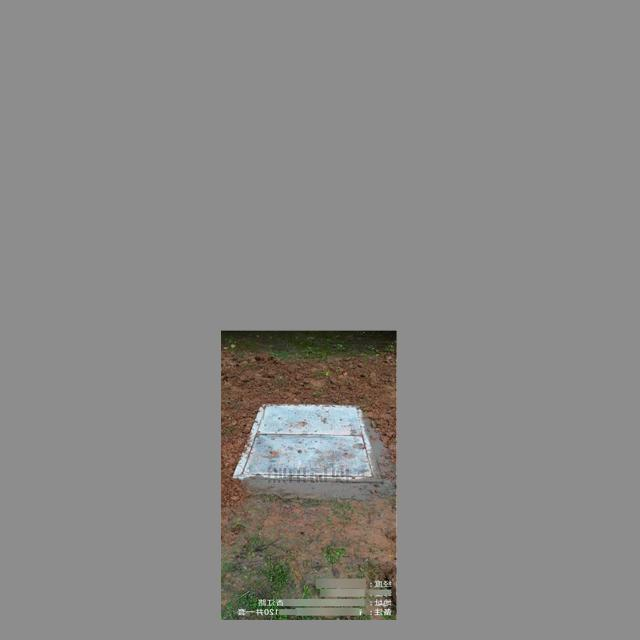good: (243, 398, 363, 477)
